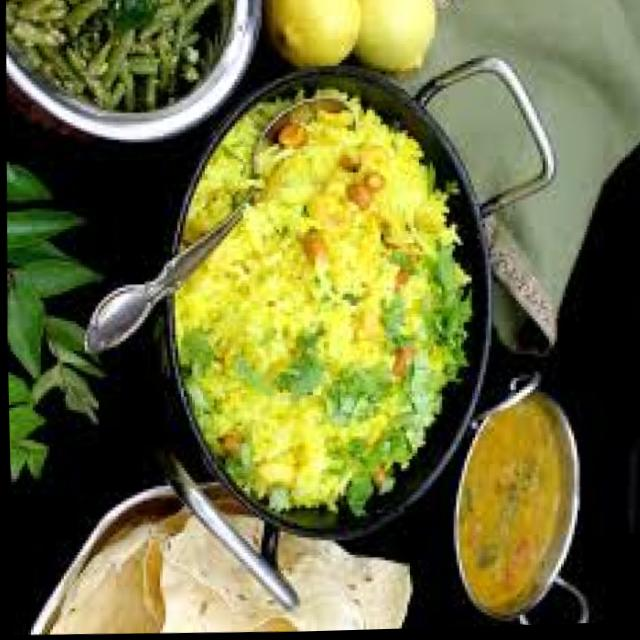RICE: (191, 106, 467, 508)
SAMBAR: (463, 411, 569, 596)
